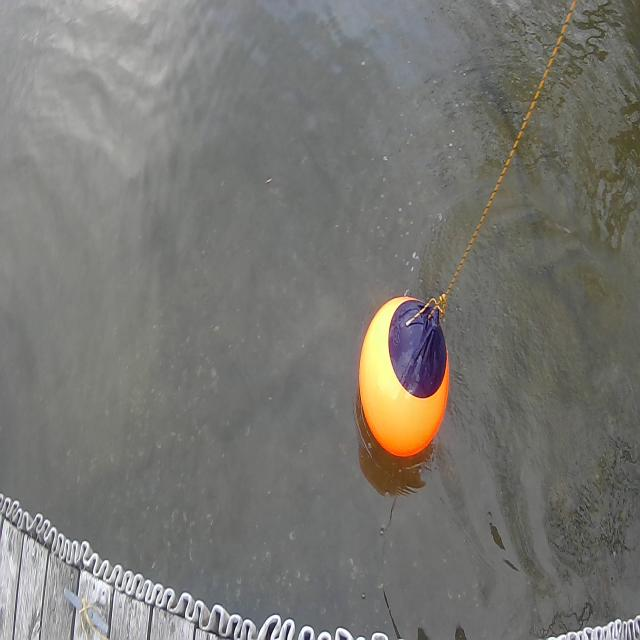Buoy: (357, 292, 451, 464)
